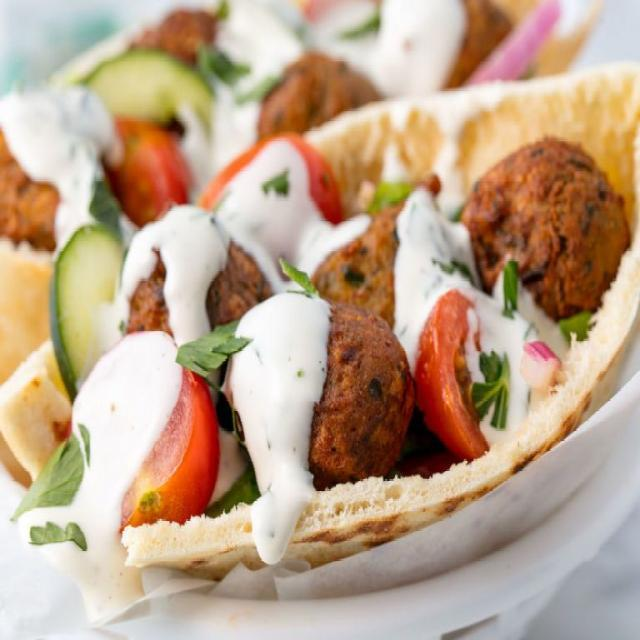flafel: (230, 290, 412, 484), (450, 137, 628, 305)
